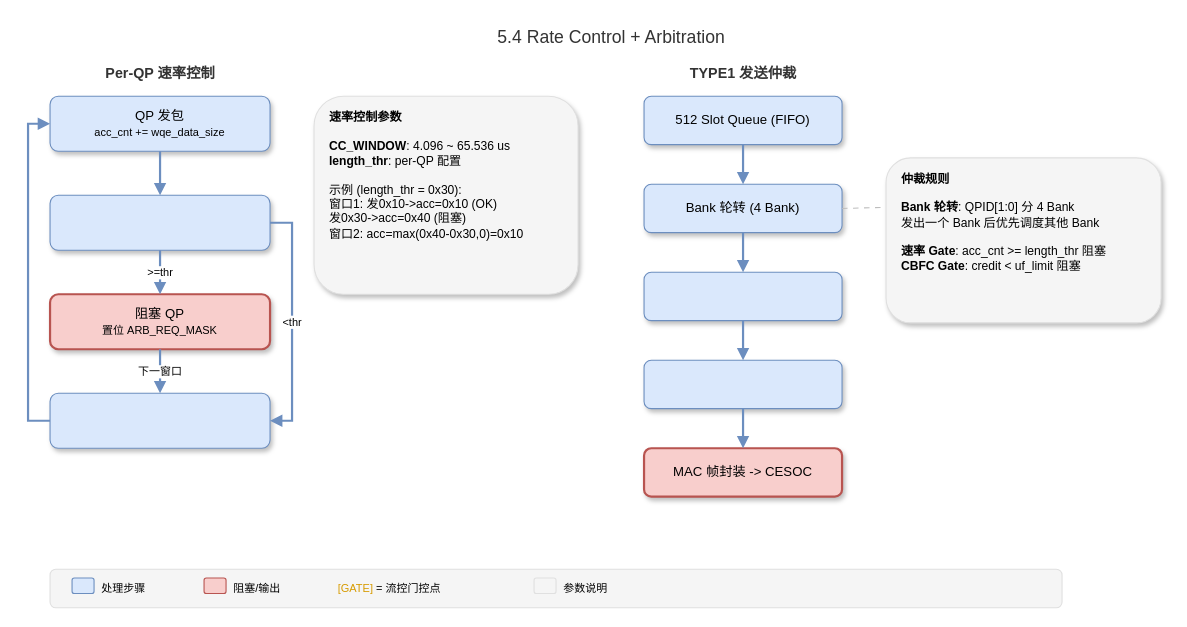
Image size: 1187x627. Some labels were removed from this diagram. The shapes that lost their labels are listed below. From the top down, each one's centre as x and y in pixels, then its label:
At (161,224): "窗口检查 acc_cnt >= length_thr?".
At (744,297): "速率控制 Gate [GATE]".
At (744,385): "CBFC Credit Gate [GATE]".
At (161,422): "窗口复位 acc_cnt = max(acc_cnt - length_thr, 0)".
